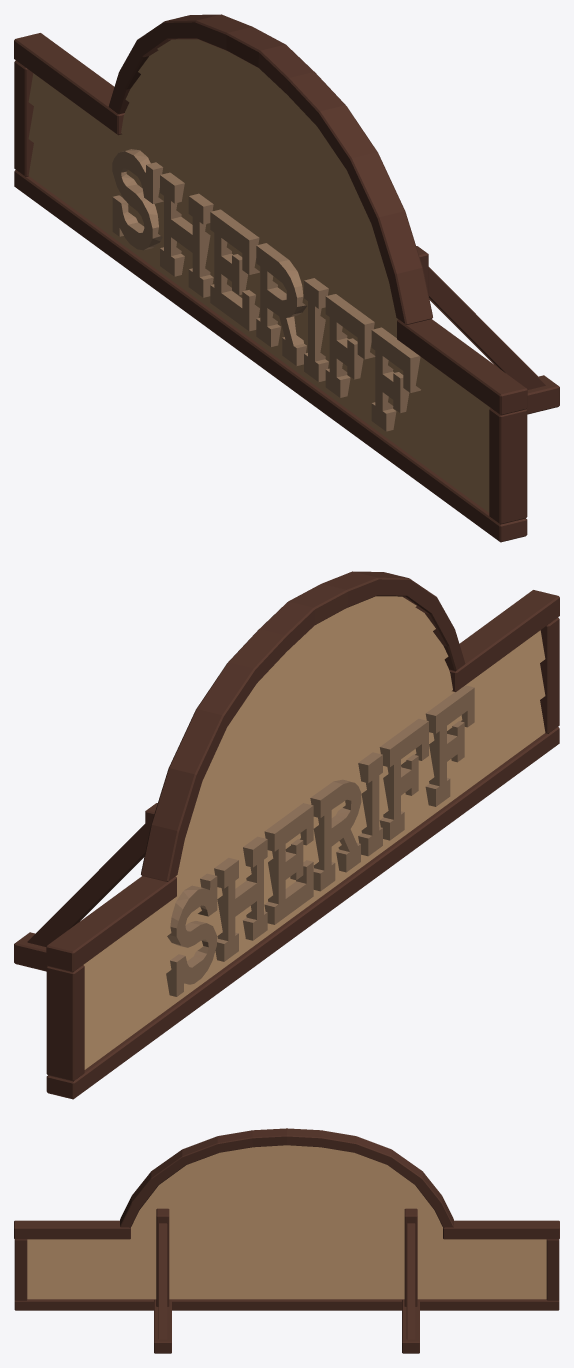
The model's file is sheriff-sign-b.glb.
The picture shows the model from 3 angles, top to bottom: view 1: azimuth 30°, elevation 25°; view 2: azimuth 150°, elevation 25°; view 3: azimuth 270°, elevation 25°; orthographic projection. The views are drawn at different scales.
Visible parts, largest first — view 1: Sheriff Sign B (×3); view 2: Sheriff Sign B (×3); view 3: Sheriff Sign B (×2).
Boxes of the visible parts, <box> form: Sheriff Sign B (×3): <box>14,14,559,542</box>; Sheriff Sign B (×3): <box>14,571,559,1099</box>; Sheriff Sign B (×2): <box>14,1128,559,1353</box>.
Bounding box in the file's own units: 1.46 × 2.35 × 6.6.
